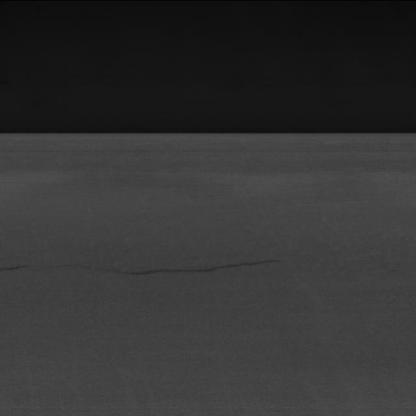water_spot: (8, 250, 296, 288)
